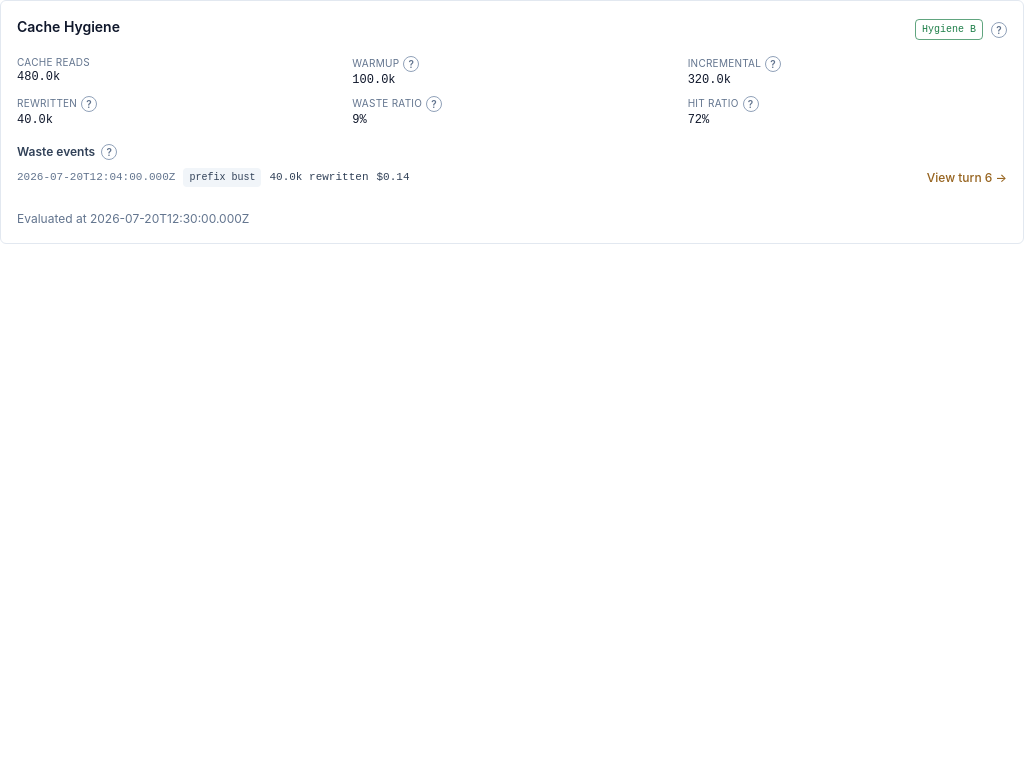
it: ScorecardView › opens one shared info modal explaining all waste event kinds
Click the button named "What do waste event kinds mean?".
click(109, 152)  # box [101,144,117,160]
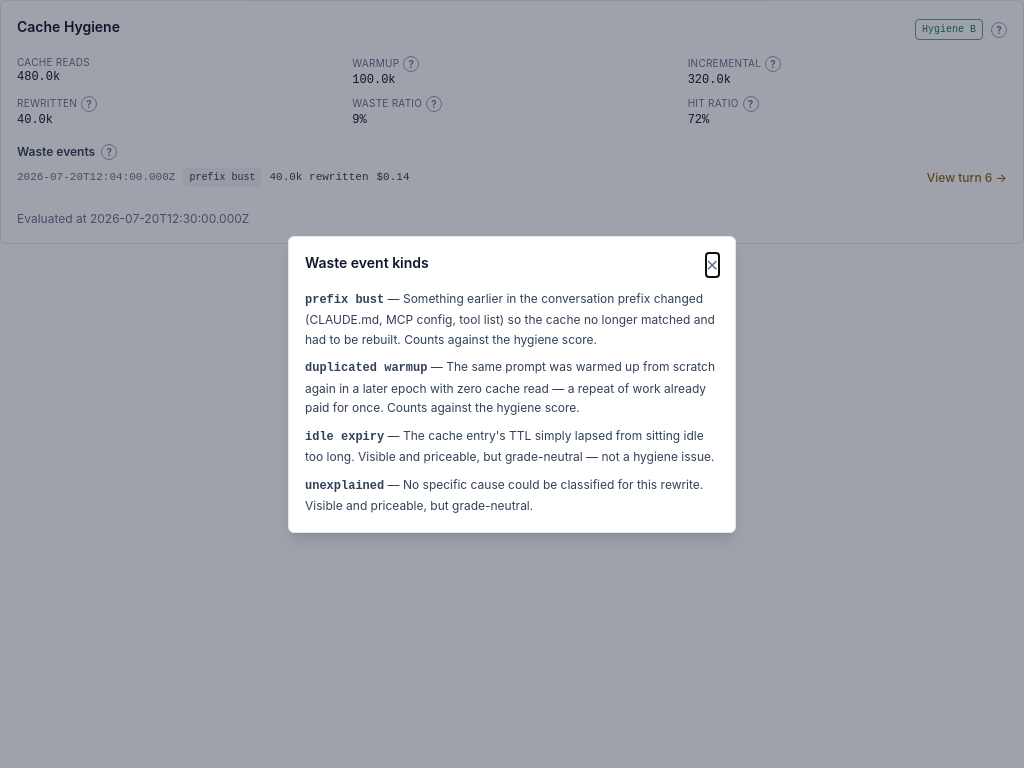
Result: the text "idle expiry" is shown at [305,430,384,444]
Result: the text "unexplained" is shown at [305,478,384,492]
